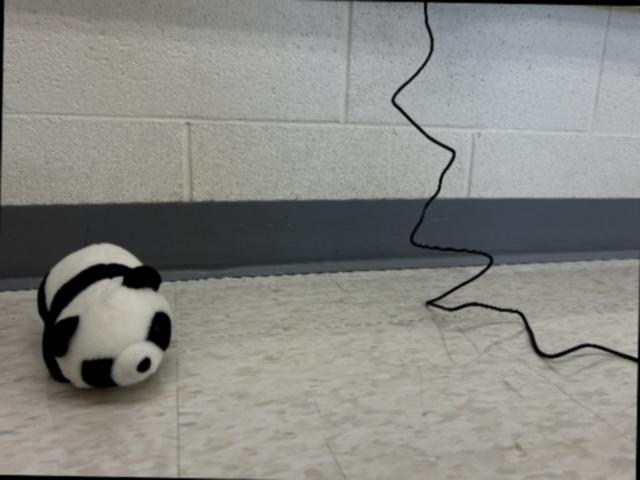panda_plushie: (36, 242, 175, 393)
